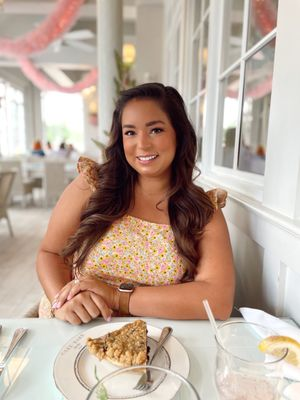pizza: (211, 322, 291, 400)
sandwich: (1, 331, 33, 400), (0, 327, 26, 377)
